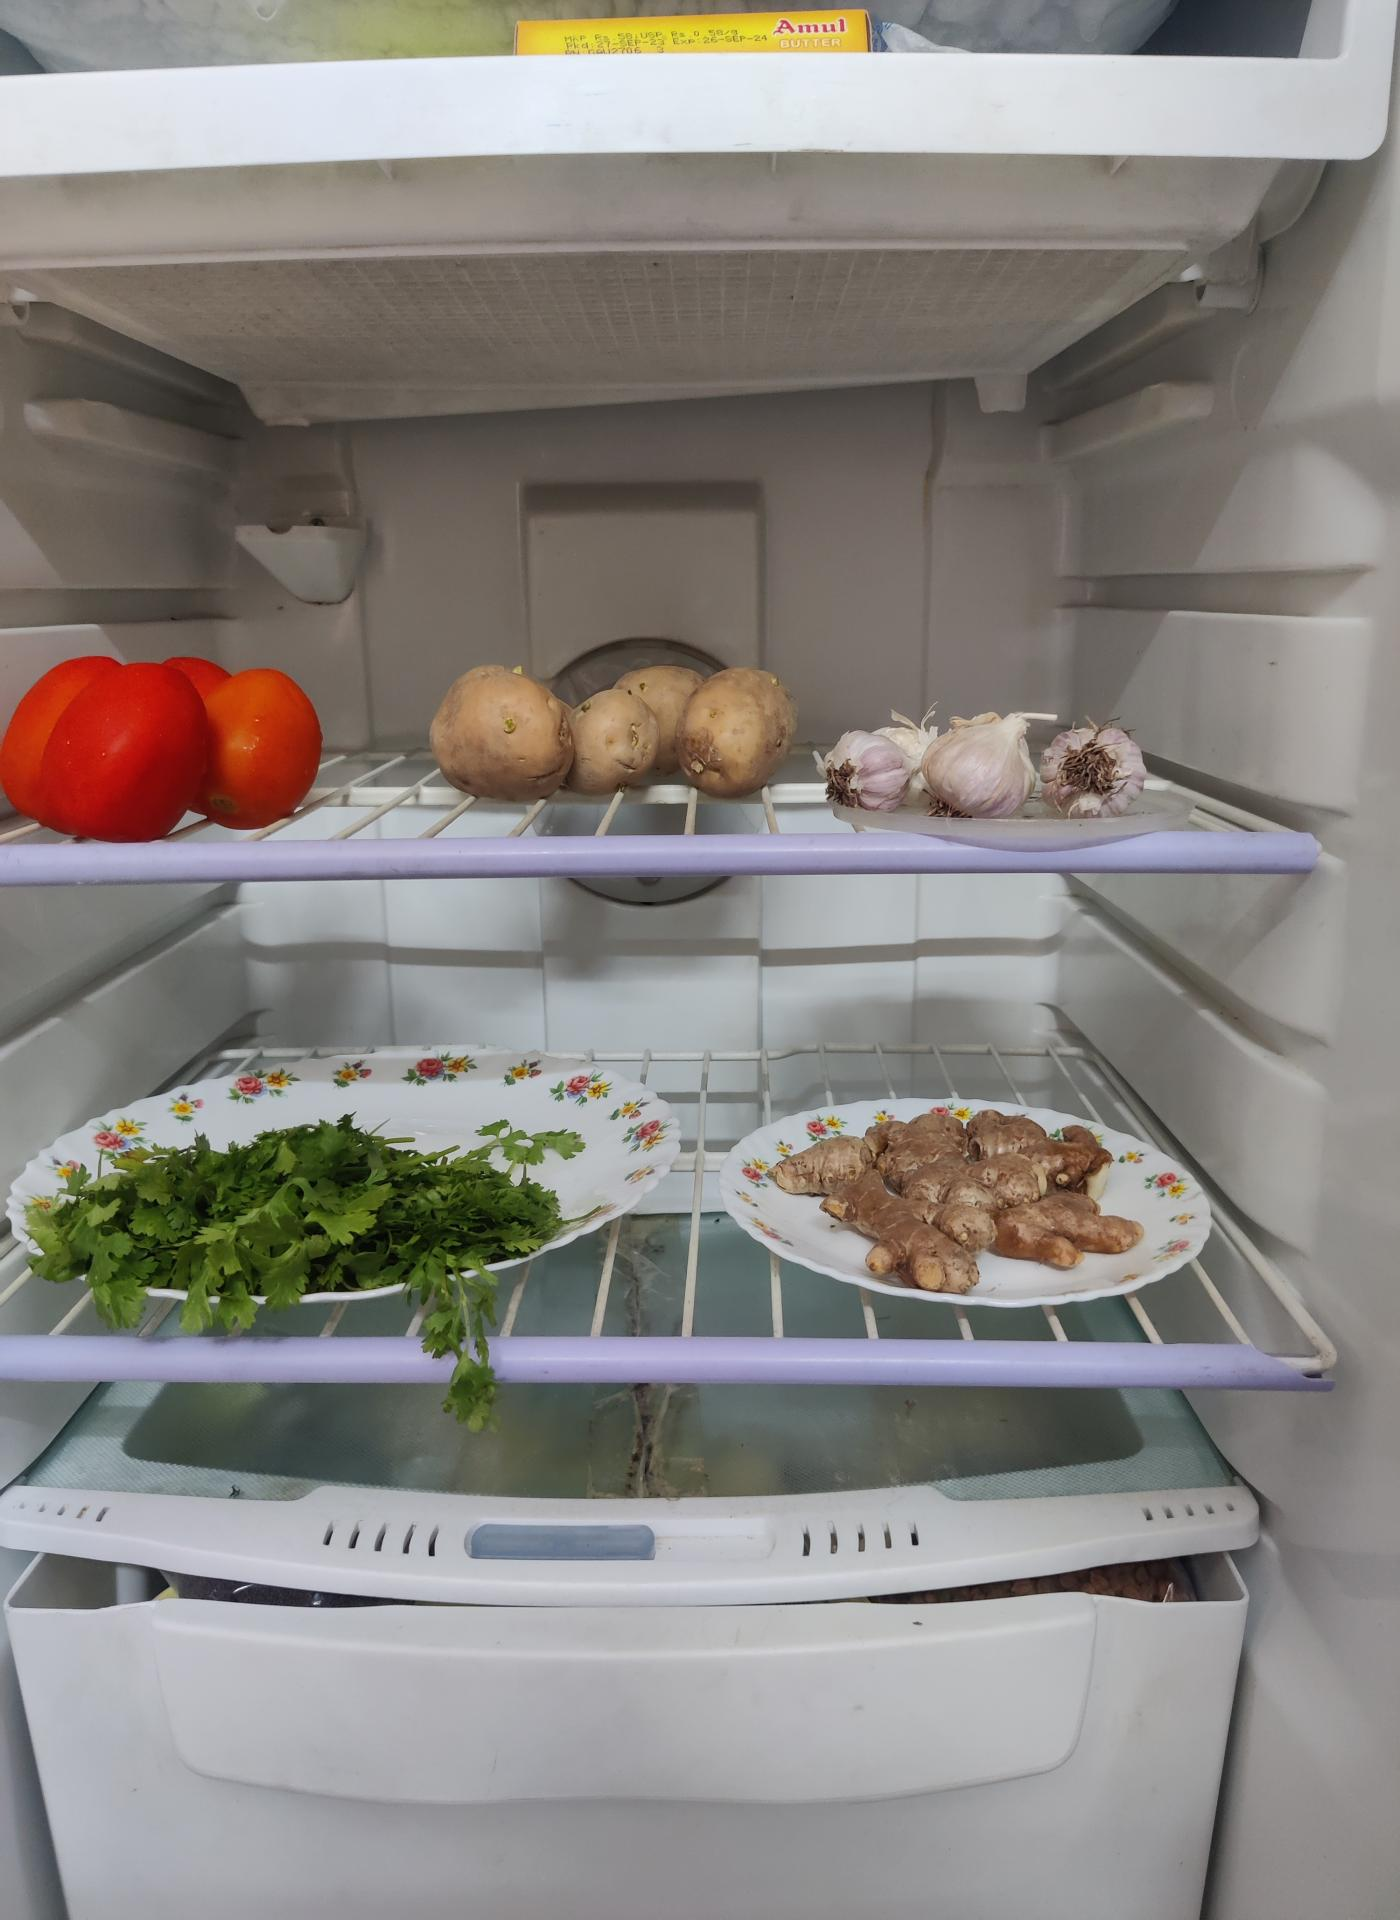coriander: (13, 1128, 578, 1325)
garlic: (826, 711, 1042, 823), (1039, 717, 1147, 809)
ginger: (750, 1114, 1126, 1294)
potato: (434, 648, 813, 796)
tomato: (3, 645, 329, 832)
